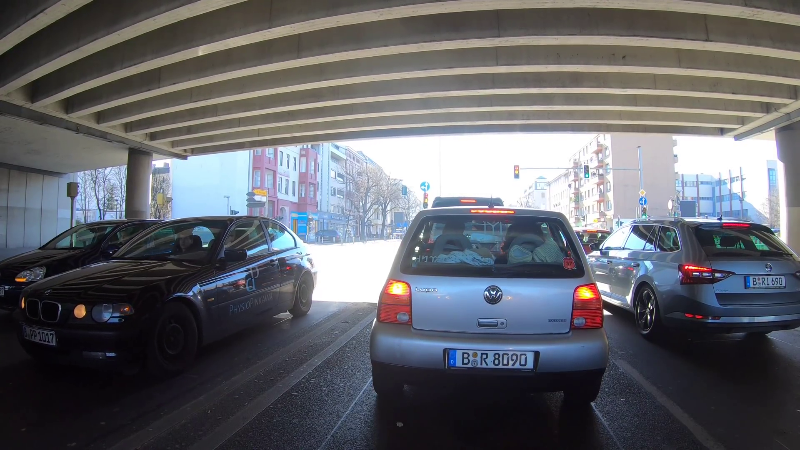Plate: (445, 346, 535, 369), (21, 326, 56, 344), (741, 274, 787, 287)
